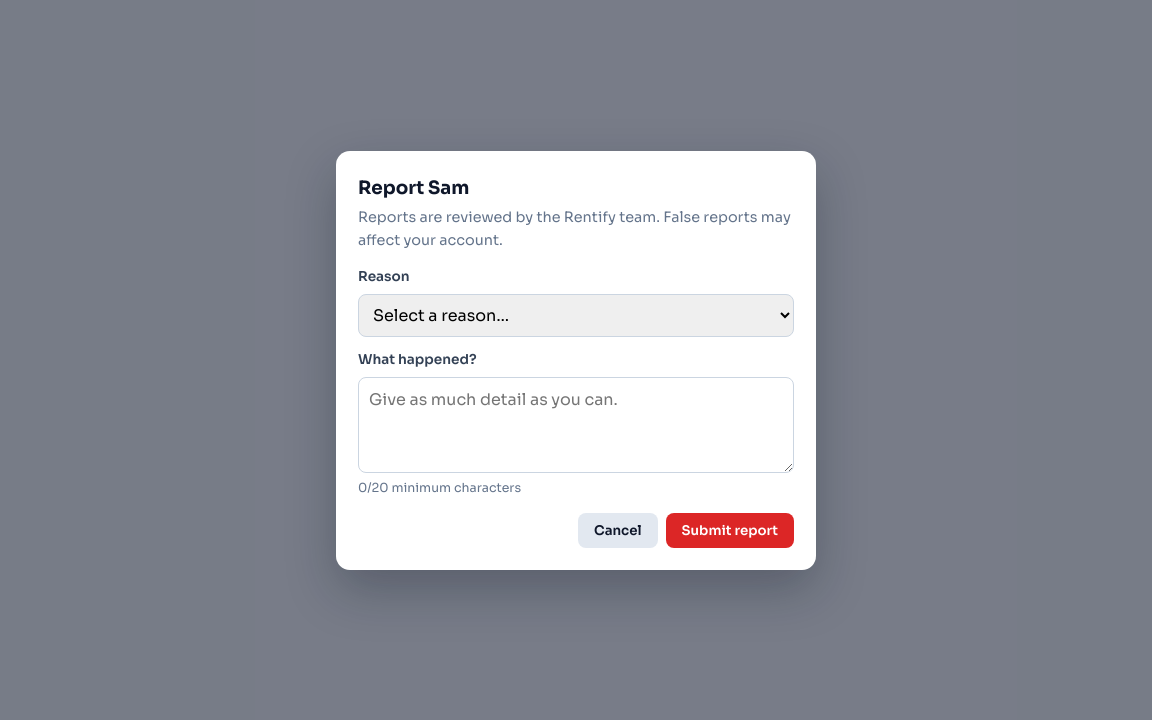
Test: ReportUserModal › requires a reason and a long enough description
Click the button "Submit report": (730, 530) [666,512,794,548]
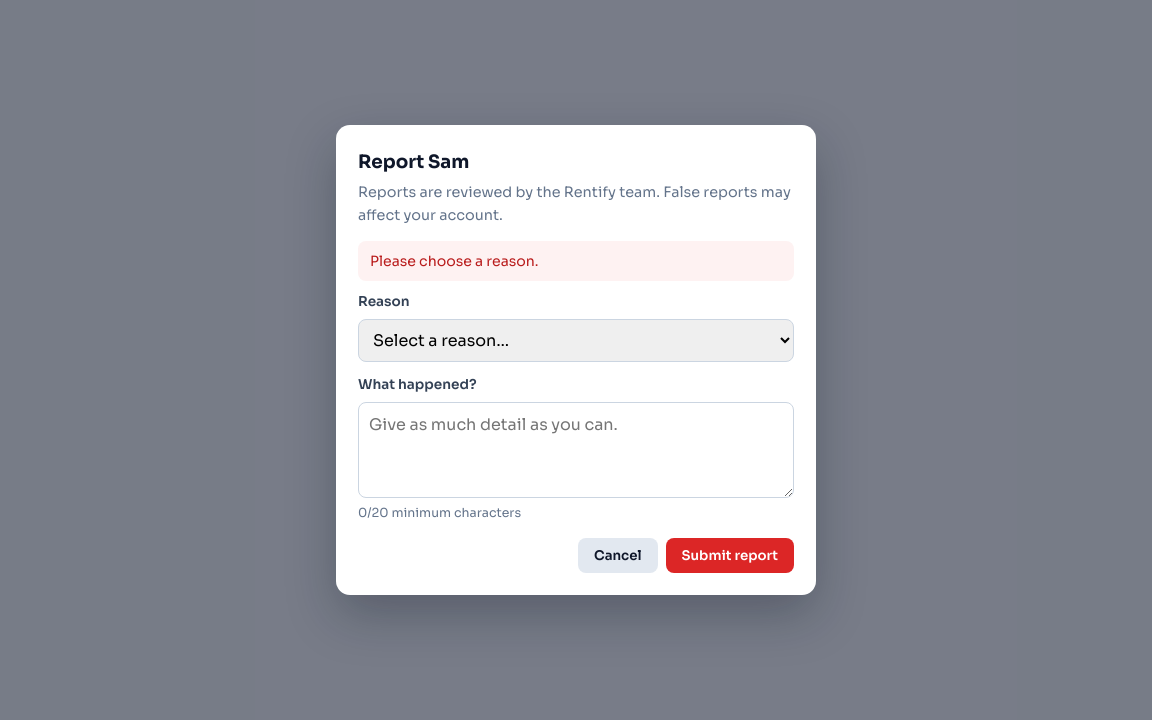
Expected: the message shows "choose a reason", [370,252,538,270]
Select "Fraud or scam" in the dropdown labelled "Reason": (576, 340) [358,319,794,362]
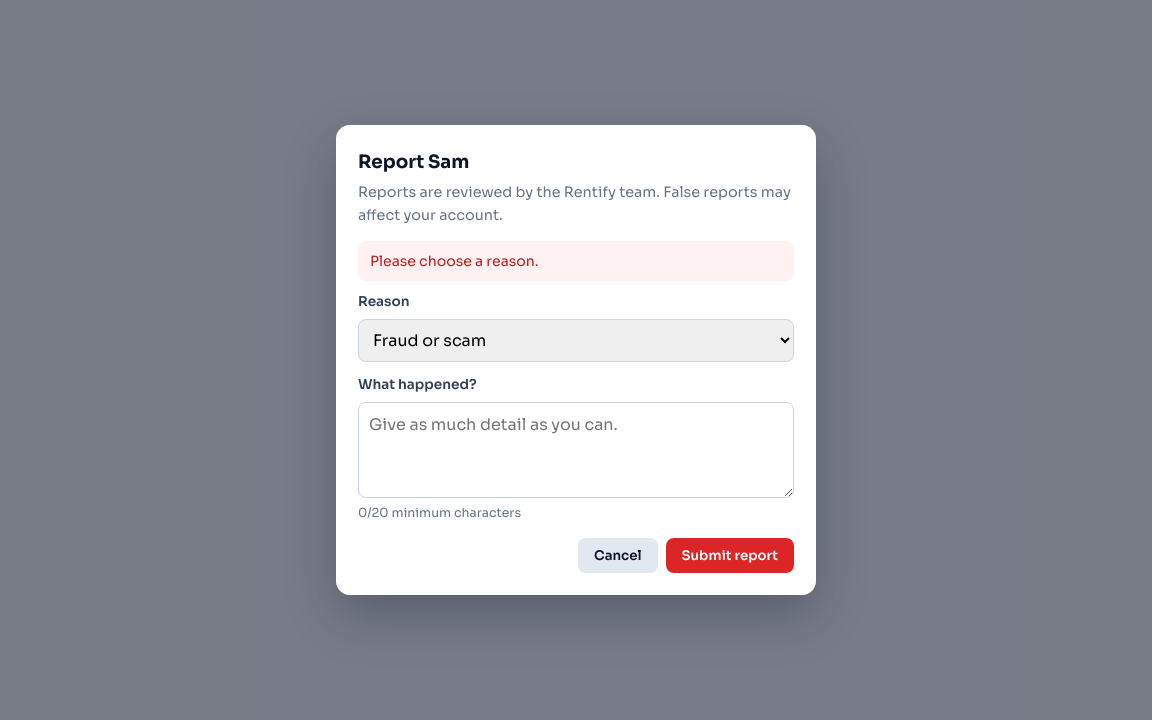
In the text box labelled "What happened?": (576, 450) [358,402,794,498], type "too short"
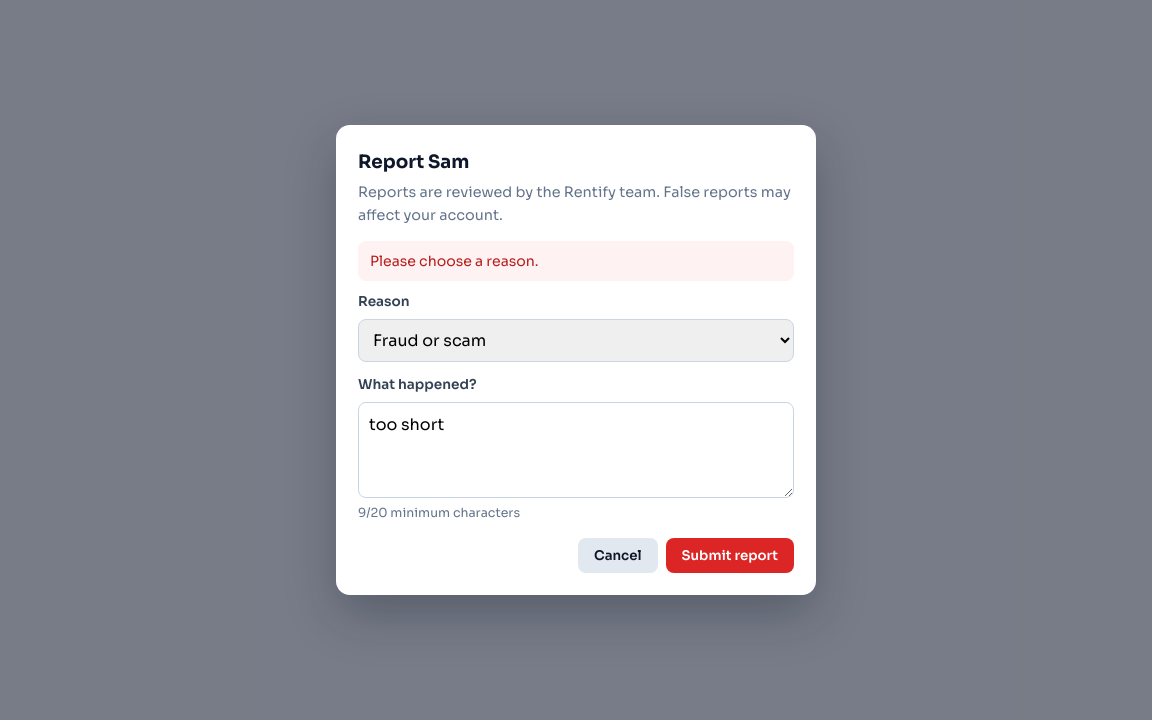
Click the button "Submit report": (730, 555) [666,538,794,573]
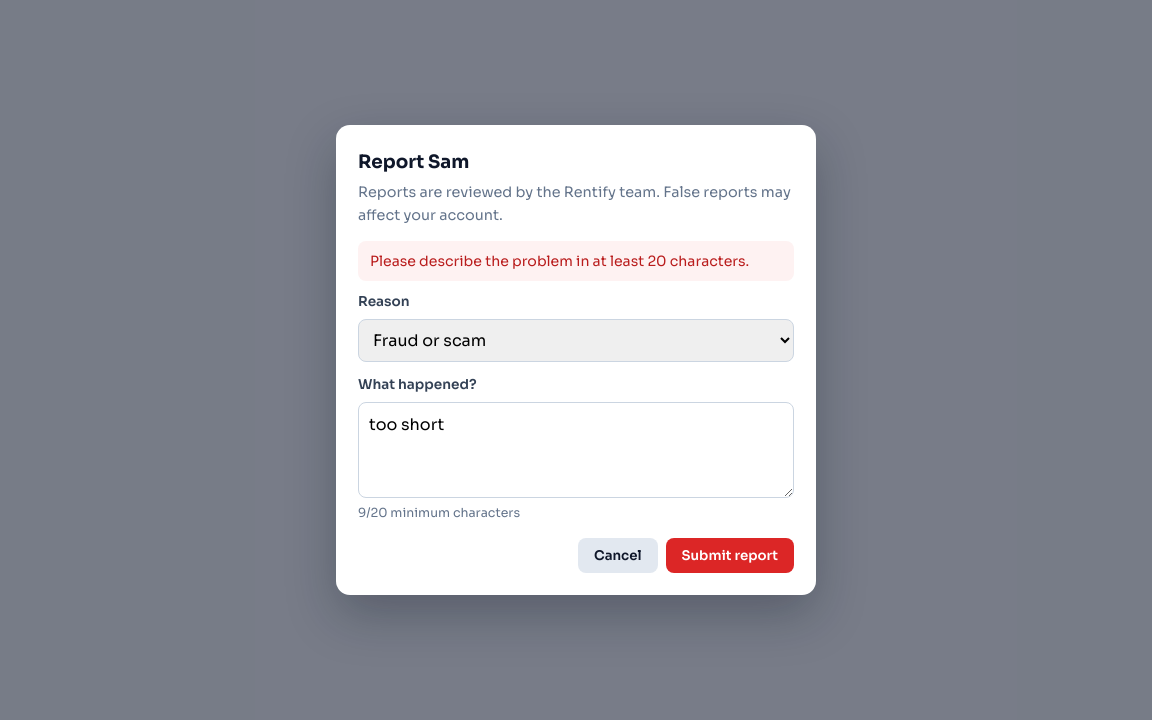
Expected: the message shows "at least 20", [370,252,749,270]
